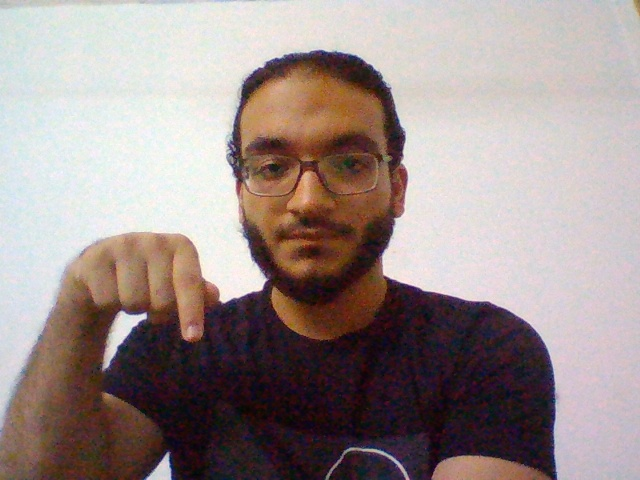Yes: (56, 219, 235, 346)
